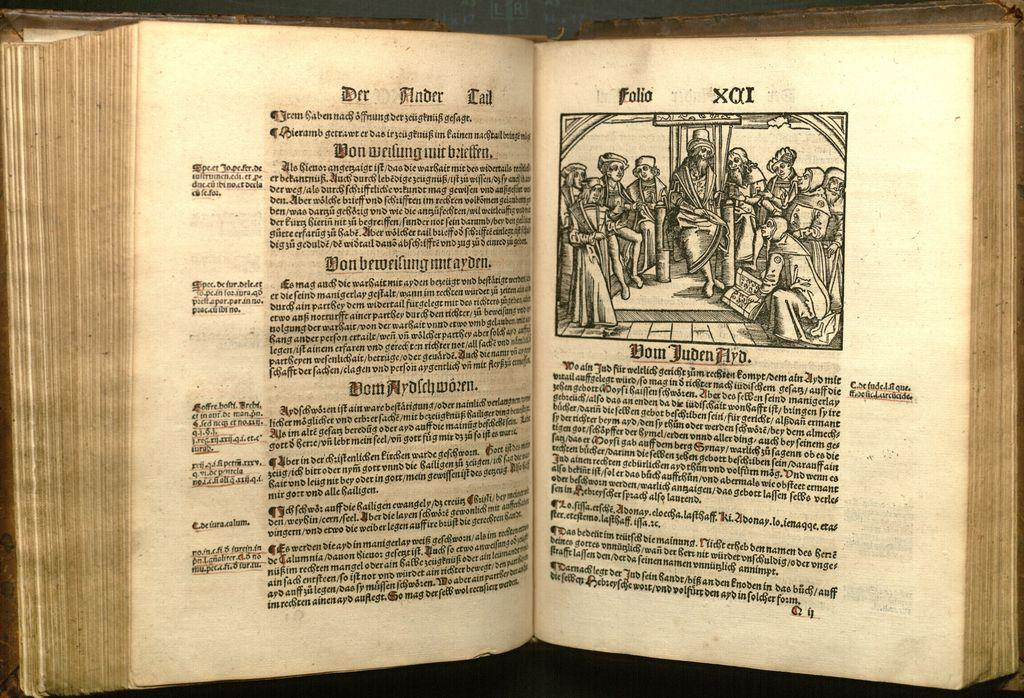book: (10, 30, 983, 678)
